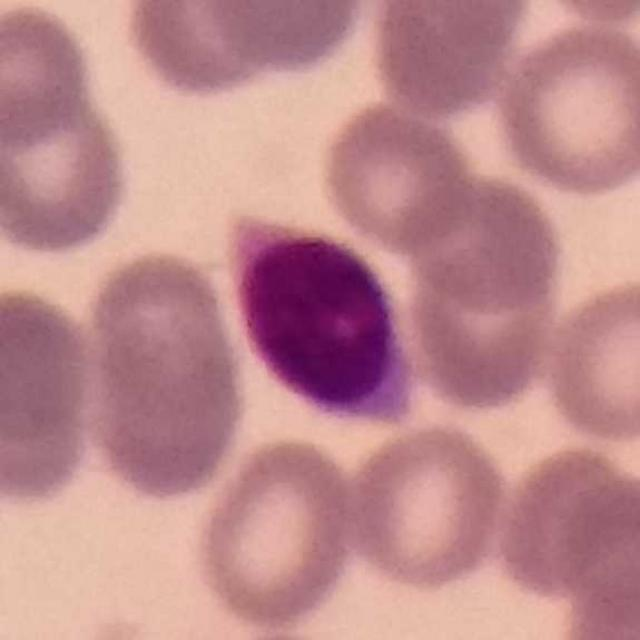Lymphocyte: (226, 217, 420, 426)
RBC: (74, 242, 252, 508), (187, 432, 363, 632), (400, 212, 568, 418), (337, 418, 513, 594), (491, 17, 639, 199), (314, 96, 481, 255), (398, 166, 570, 318), (489, 440, 640, 607), (0, 77, 137, 260), (0, 278, 99, 511), (361, 0, 534, 120), (117, 0, 305, 105), (538, 272, 640, 447), (550, 470, 640, 631), (0, 0, 97, 148), (195, 0, 373, 78), (553, 554, 640, 640), (526, 0, 640, 27)
